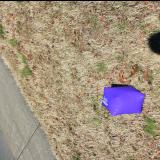cube: (101, 84, 146, 114)
